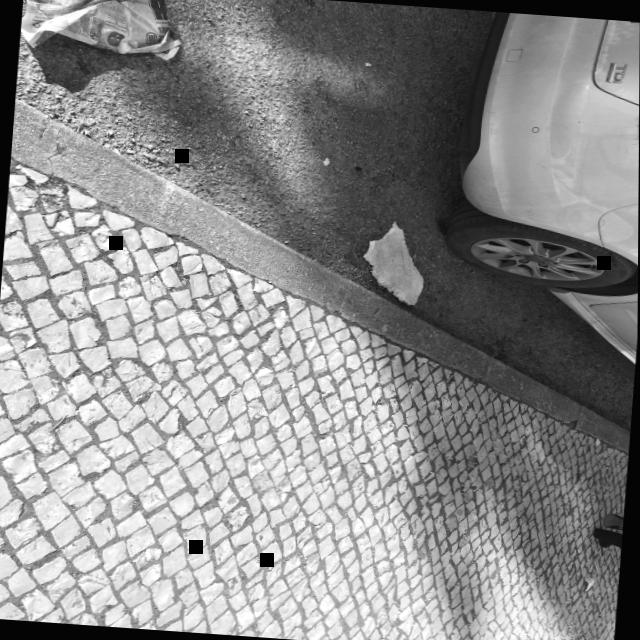Normal paper: (19, 0, 180, 60)
Styrofoam piece: (362, 221, 422, 305), (322, 157, 329, 165)
Unlabeled litter: (583, 577, 594, 593)
